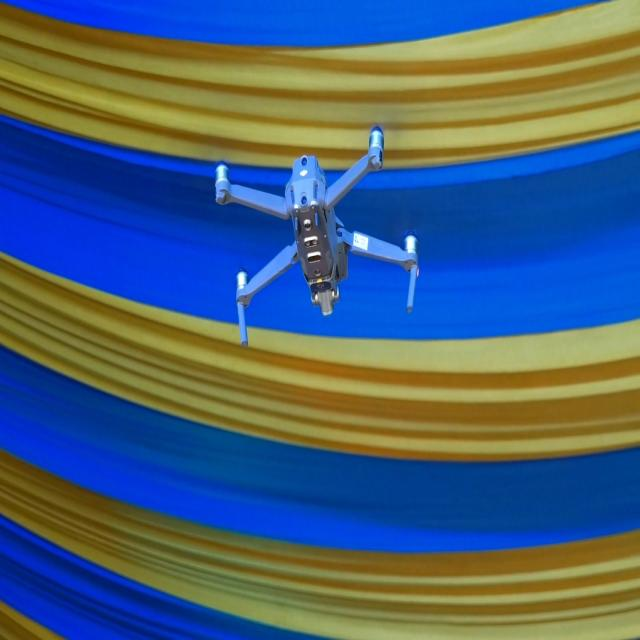Drone: (216, 128, 420, 348)
